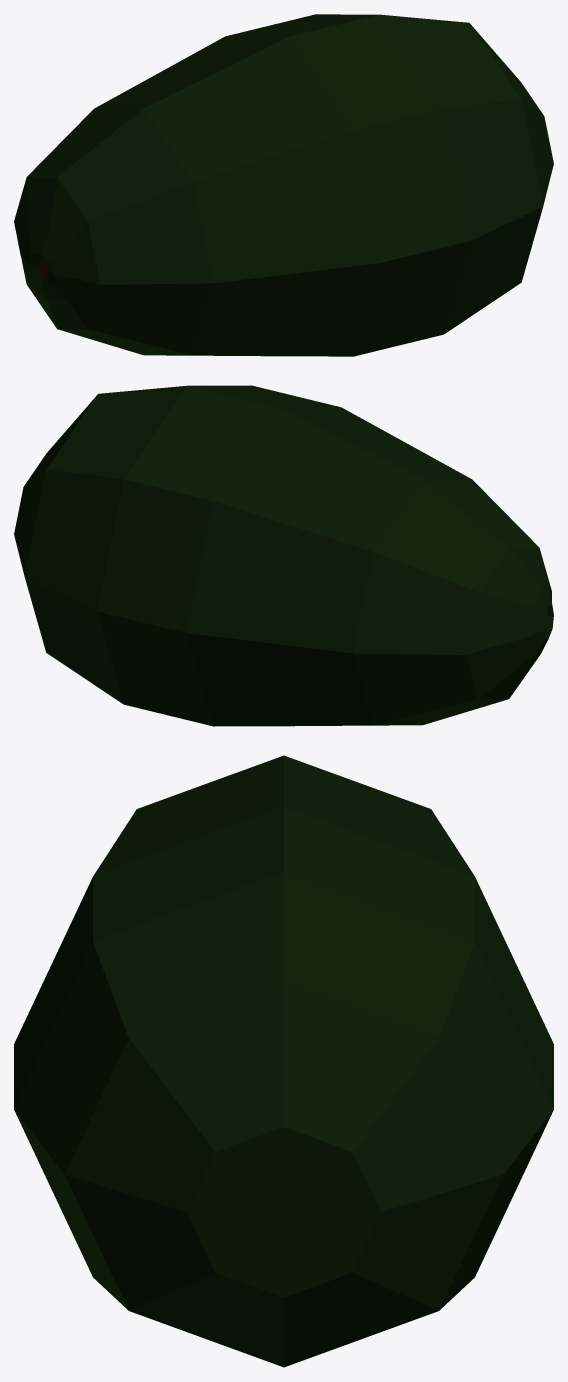
File: avocado01.obj
3 renders of one model, top to bottom at view 1: azimuth 30°, elevation 25°; view 2: azimuth 150°, elevation 25°; view 3: azimuth 270°, elevation 25°, orthographic. The views are drawn at different scales.
Parts seen in each view (by area): view 1: Cylinder.001; view 2: Cylinder.001; view 3: Cylinder.001.
Part boxes in pixels (x1,y1,x2,y2): Cylinder.001: [14, 14, 553, 356]; Cylinder.001: [14, 385, 553, 726]; Cylinder.001: [14, 755, 553, 1367].
Bounding box in the file's own units: 0.0928 × 0.0571 × 0.0589.
1 material, 1 textured.
